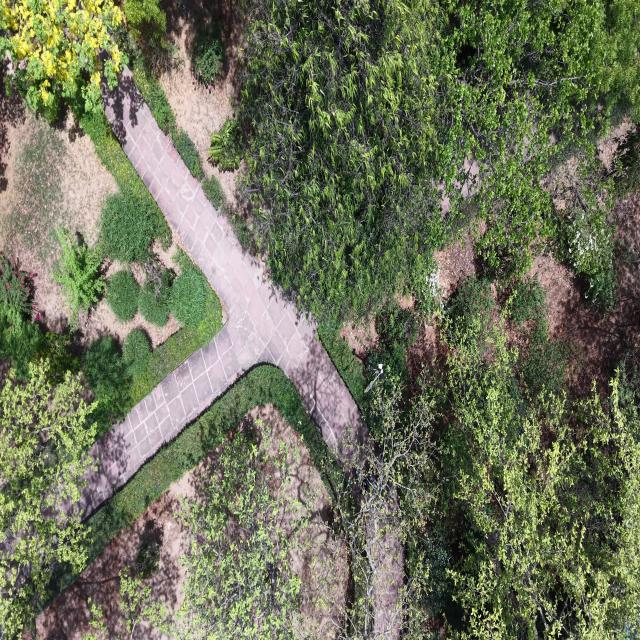DRY_AREA: (82, 70, 362, 517), (85, 74, 359, 515), (37, 444, 223, 639), (0, 90, 117, 334), (0, 95, 117, 333), (528, 190, 639, 397), (528, 191, 639, 397), (531, 192, 639, 397), (159, 0, 243, 158), (159, 0, 242, 158)
PATHWAYS: (82, 70, 360, 517)
VEGETATION_TREE: (210, 0, 639, 639), (240, 0, 639, 637), (240, 0, 639, 317), (317, 283, 639, 638), (321, 279, 639, 638), (330, 279, 639, 638), (334, 279, 639, 638), (334, 282, 639, 639), (0, 256, 220, 637), (423, 309, 639, 638), (89, 366, 341, 637), (240, 0, 454, 318), (443, 0, 639, 272), (443, 380, 639, 638), (88, 365, 330, 561), (0, 259, 221, 444), (83, 116, 219, 399), (0, 267, 221, 431), (176, 422, 309, 639), (331, 367, 437, 639), (124, 37, 255, 253), (0, 360, 96, 638), (83, 249, 221, 432), (85, 281, 221, 430), (84, 287, 221, 431), (330, 260, 442, 399), (118, 0, 203, 180), (118, 0, 202, 180), (101, 190, 209, 327), (0, 0, 122, 120), (80, 112, 171, 248), (128, 23, 203, 180), (131, 287, 222, 402), (0, 254, 79, 383), (549, 154, 615, 308), (101, 190, 173, 326), (3, 118, 68, 260), (133, 56, 202, 179), (500, 277, 568, 397), (507, 278, 568, 397), (83, 567, 168, 639), (0, 254, 42, 377), (568, 195, 614, 307), (54, 228, 105, 327), (201, 176, 258, 255), (83, 336, 130, 431), (120, 0, 181, 73), (366, 300, 417, 384), (318, 323, 367, 405), (101, 190, 153, 262), (119, 567, 168, 638), (132, 56, 176, 135), (0, 304, 42, 376), (447, 277, 497, 330), (406, 254, 443, 320), (509, 276, 546, 337), (37, 332, 80, 383), (139, 262, 173, 326), (123, 0, 167, 48), (170, 268, 206, 326), (222, 201, 259, 255), (192, 26, 223, 90), (207, 118, 242, 171), (106, 270, 139, 321), (615, 125, 639, 195), (171, 128, 202, 180), (123, 328, 151, 377), (135, 529, 161, 579), (83, 598, 108, 639), (201, 176, 225, 208)
